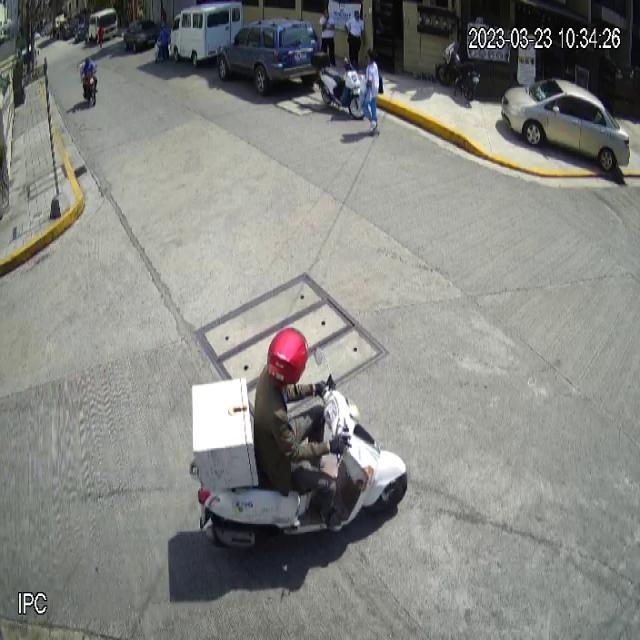Car: (501, 79, 631, 172), (216, 16, 322, 96)
Motorcycle: (187, 344, 409, 556), (311, 51, 368, 121)
Van: (169, 0, 243, 67)
